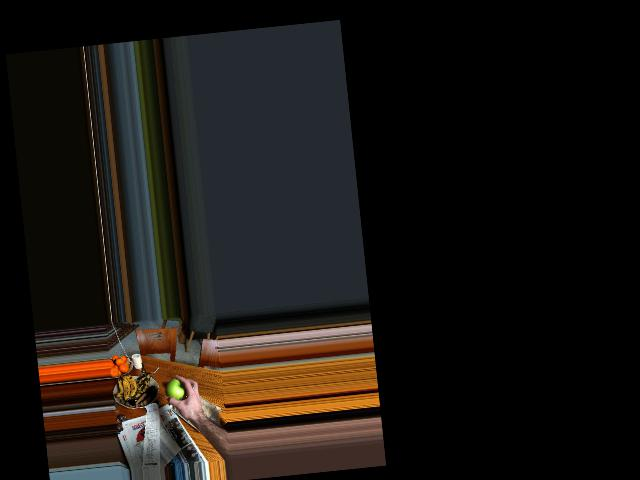apple: (163, 373, 190, 405)
